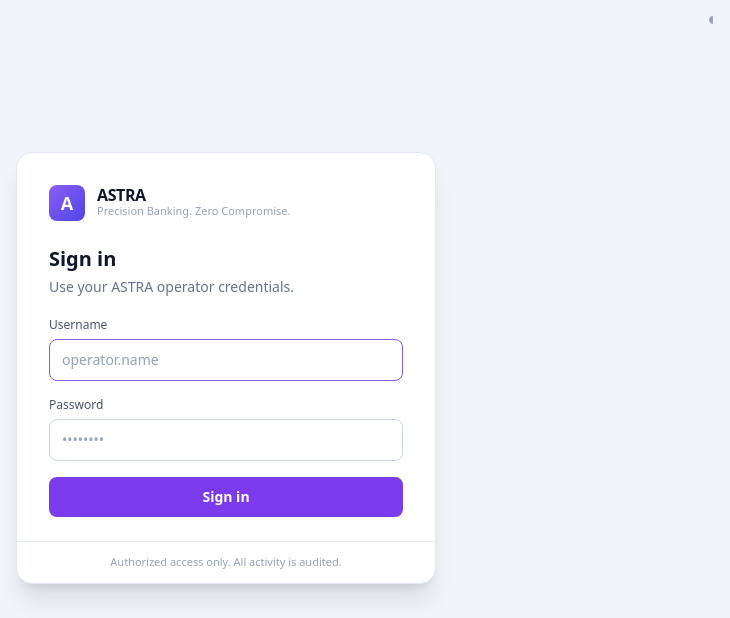
LoginPage › advances to the MFA verify step on MFA_REQUIRED and stores the CSRF token
Type "ops1" into the field with placeholder "operator.name" at (226, 360), box [49,339,403,381]
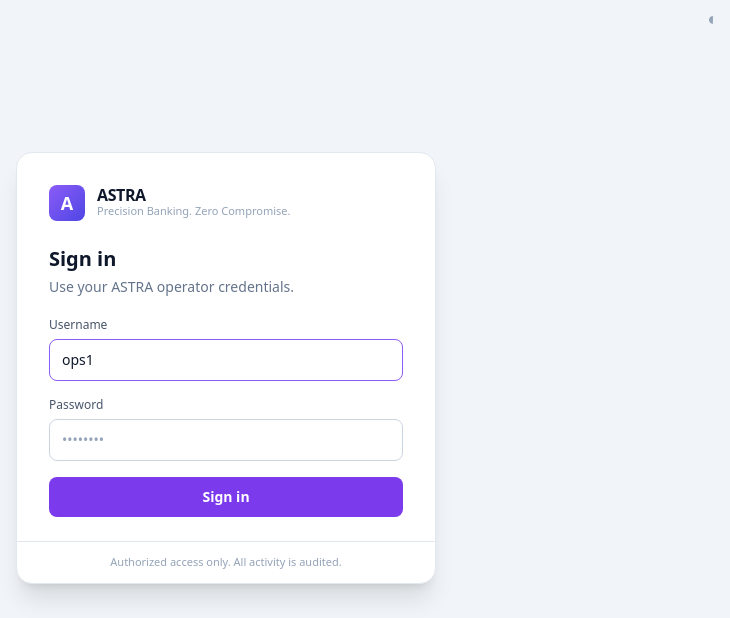
Type "pw" into the password field with placeholder "••••••••" at (226, 440), box [49,419,403,461]
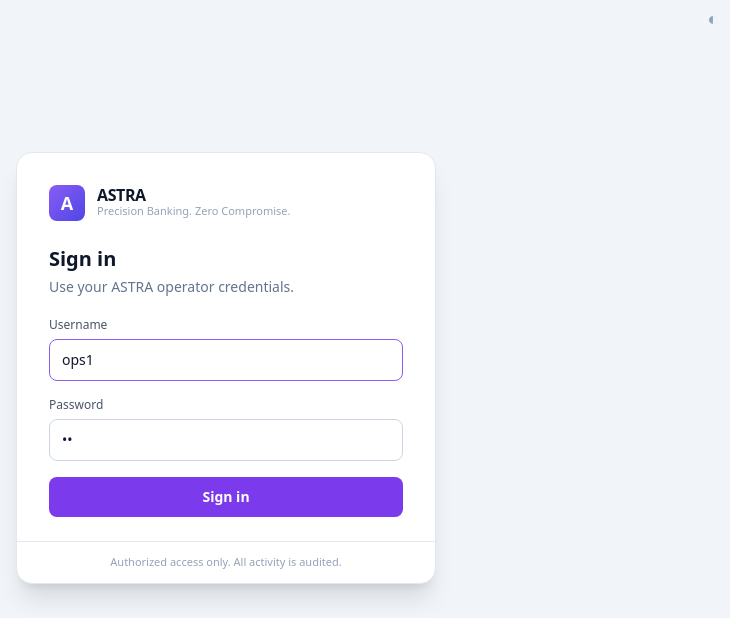
Click the button "Sign in" at (226, 497), box [49,477,403,517]
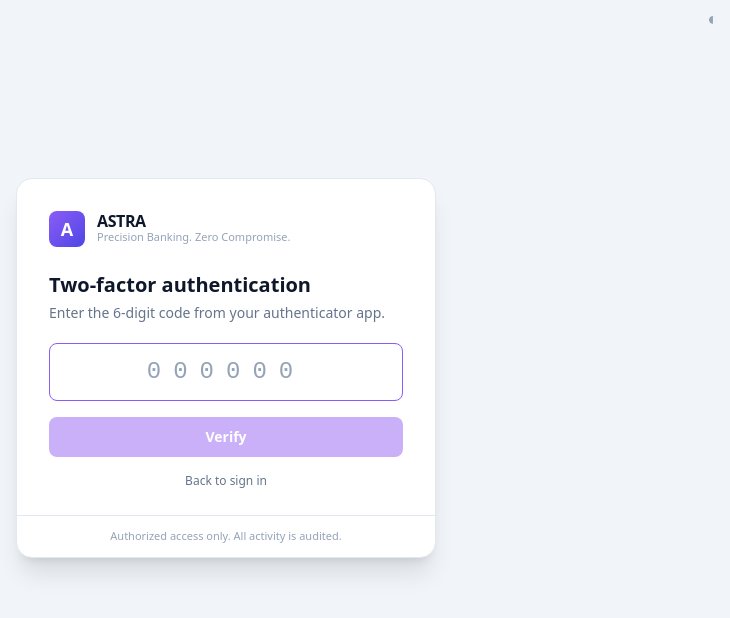
Result: the heading "Two-factor authentication" is shown at [49,271,311,298]
